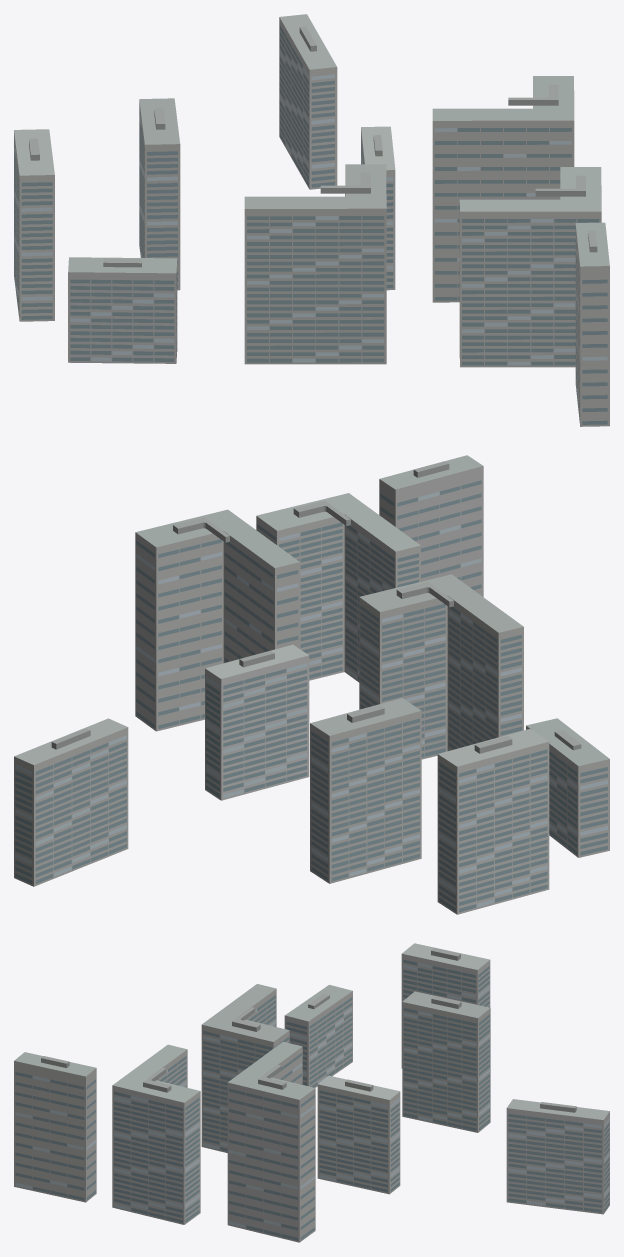
File: apt-a13403101.glb
The picture shows the model from 3 angles, top to bottom: view 1: azimuth 30°, elevation 25°; view 2: azimuth 150°, elevation 25°; view 3: azimuth 270°, elevation 25°; orthographic projection. The views are drawn at different scales.
Parts seen in each view (by area): view 1: apt-a13403101; view 2: apt-a13403101; view 3: apt-a13403101.
Part boxes in pixels (x1=…): apt-a13403101: x1=14, y1=14, x2=609, y2=426; apt-a13403101: x1=14, y1=455, x2=609, y2=914; apt-a13403101: x1=14, y1=943, x2=609, y2=1242.
Size of the model in its own units: 215 by 79 by 290.
